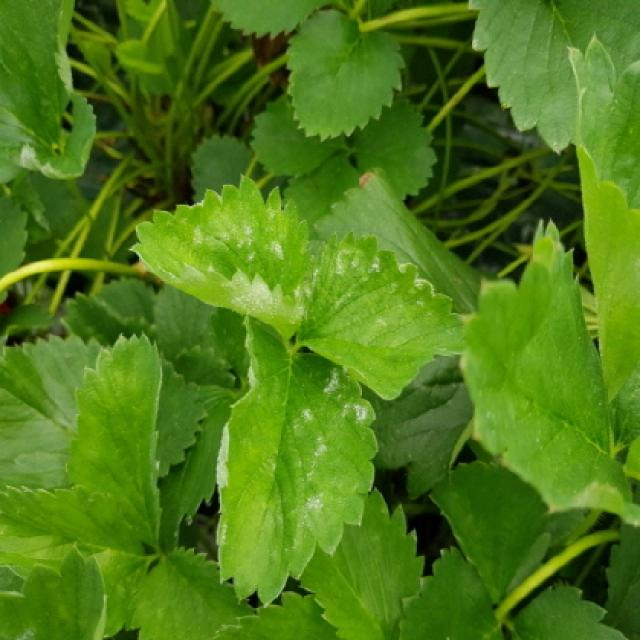Powdery Mildew Leaf: (216, 315, 380, 609), (128, 174, 315, 340), (294, 230, 469, 403)
